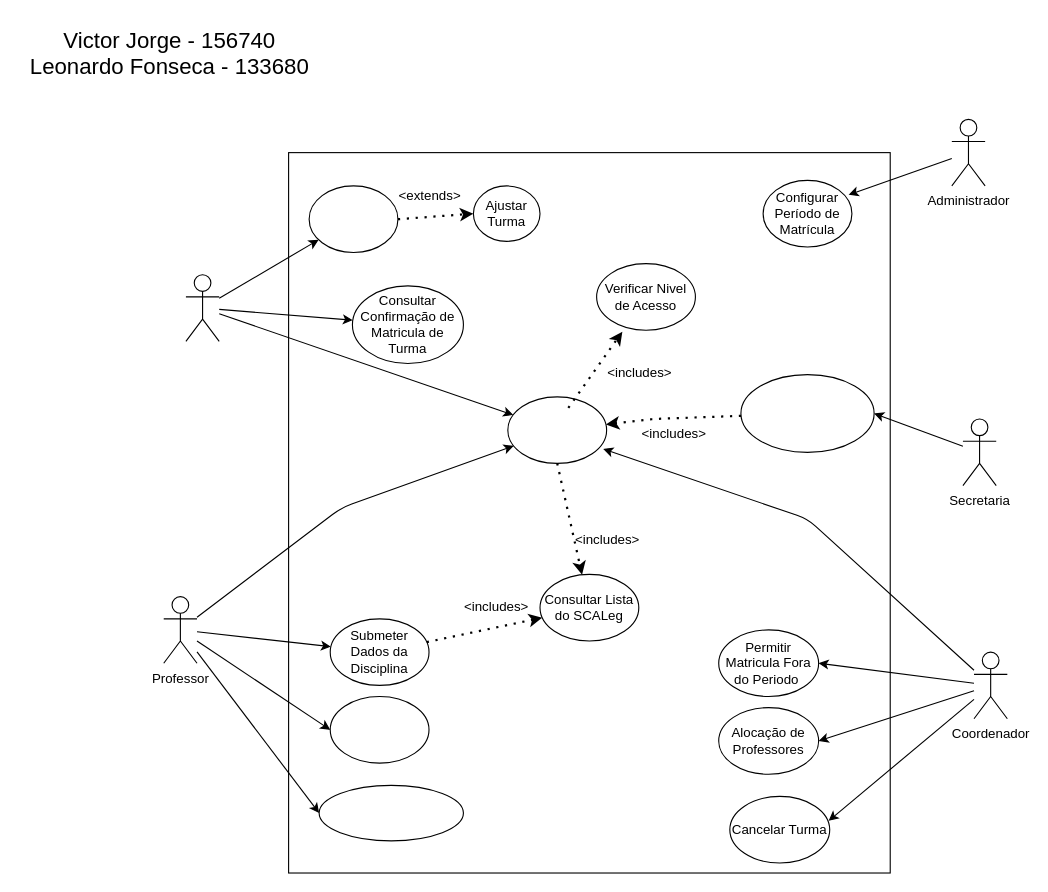
This 1048x892 diagram has some shape labels left out. The shapes that lost their labels are listed below. From the top down, each one's centre as x and y in pixels, then its label:
(353,219): Matricular em Turma
(202,307): Aluno
(557,429): Visualizar Dados das Disciplinas
(807,413): Consultar Lista de Disciplinas Por Aluno
(379,729): Visualizar Lista de Alunos
(390,812): Candidatar em Turma (Sem Prof.)
